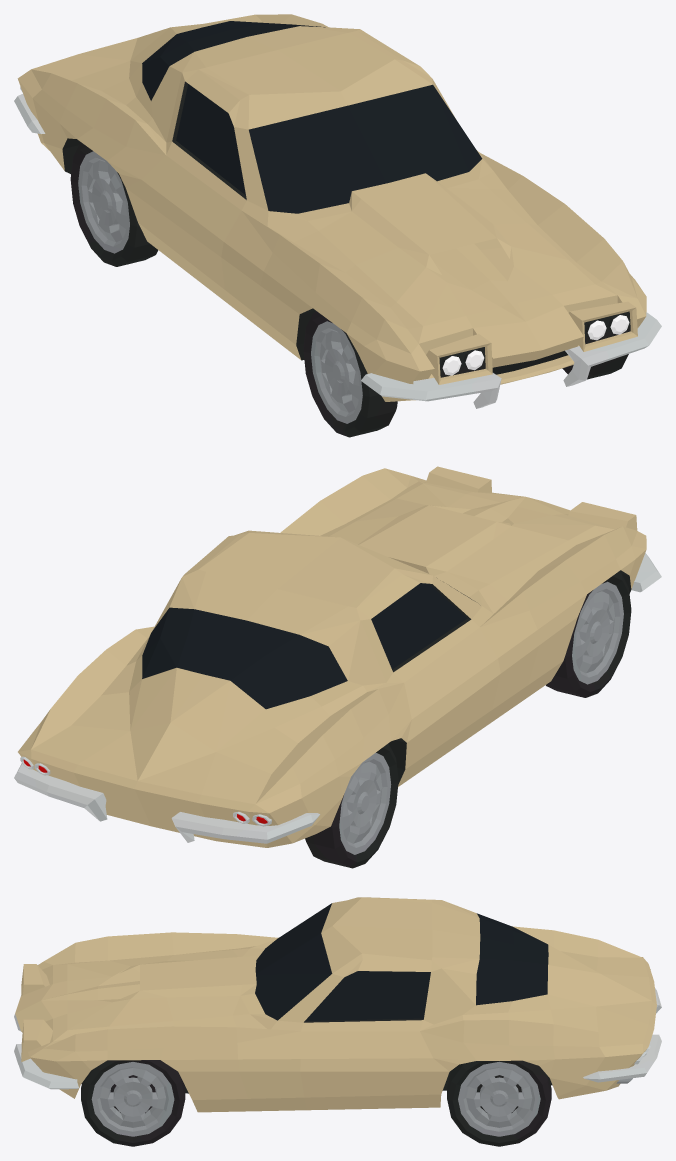
The model's file is corvette_stingray.glb.
The picture shows the model from 3 angles, top to bottom: view 1: azimuth 30°, elevation 25°; view 2: azimuth 150°, elevation 25°; view 3: azimuth 270°, elevation 25°; orthographic projection. The views are drawn at different scales.
Parts seen in each view (by area): view 1: Cube.001, Wheel_FR, Wheel_RR; view 2: Cube.001, Wheel_RR, Wheel_FR; view 3: Cube.001, Wheel_RL, Wheel_FL.
Part boxes in pixels (x1=…): Cube.001: x1=14, y1=14, x2=661, y2=408; Wheel_FR: x1=303, y1=311, x2=397, y2=437; Wheel_RR: x1=70, y1=142, x2=158, y2=266; Cube.001: x1=14, y1=466, x2=661, y2=847; Wheel_RR: x1=305, y1=744, x2=398, y2=868; Wheel_FR: x1=546, y1=572, x2=631, y2=697; Cube.001: x1=14, y1=897, x2=661, y2=1112; Wheel_RL: x1=447, y1=1060, x2=551, y2=1146; Wheel_FL: x1=81, y1=1060, x2=185, y2=1146.
Bounding box in the file's own units: 1.86 × 1.35 × 4.64.
1 material, 1 textured.
